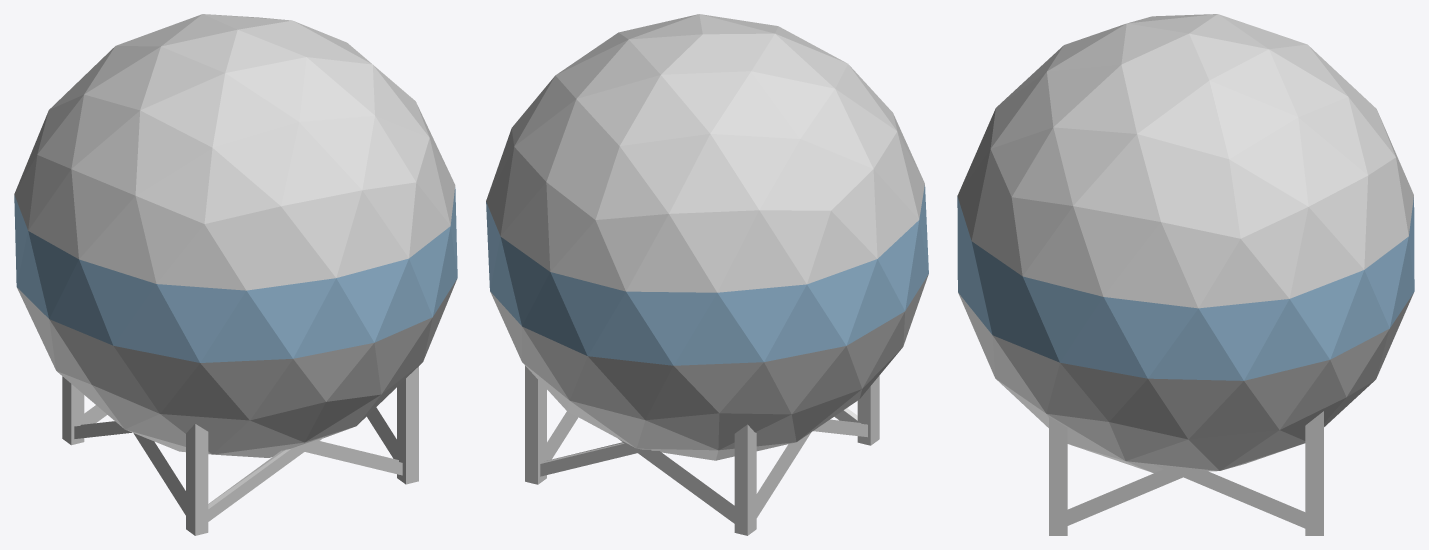
The picture shows the model from 3 angles, left to right: view 1: azimuth 30°, elevation 25°; view 2: azimuth 150°, elevation 25°; view 3: azimuth 270°, elevation 25°; orthographic projection. The views are drawn at different scales.
Visible parts, largest first — view 1: Sphere_5; view 2: Sphere_5; view 3: Sphere_5.
Part boxes in pixels (x1,y1,x2,y2): Sphere_5: (14,14,457,535); Sphere_5: (486,14,928,535); Sphere_5: (957,14,1414,535).
Size of the model in its own units: 537 by 572 by 533.
